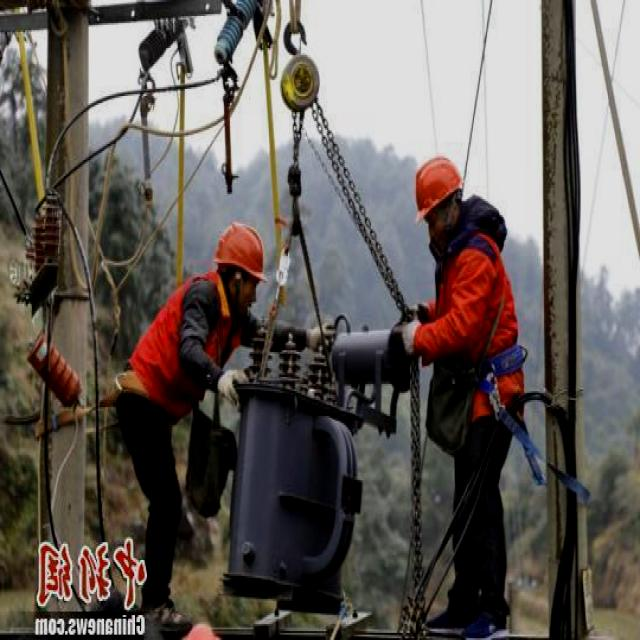face_nomask: (426, 196, 458, 254), (235, 268, 258, 310)
hand_glove: (214, 361, 247, 411), (400, 309, 423, 354)
head_helmet: (415, 156, 466, 218), (212, 224, 266, 281)
person: (115, 224, 265, 631), (414, 149, 526, 635)
shoes: (138, 589, 196, 639), (423, 594, 479, 640), (462, 599, 515, 640)
